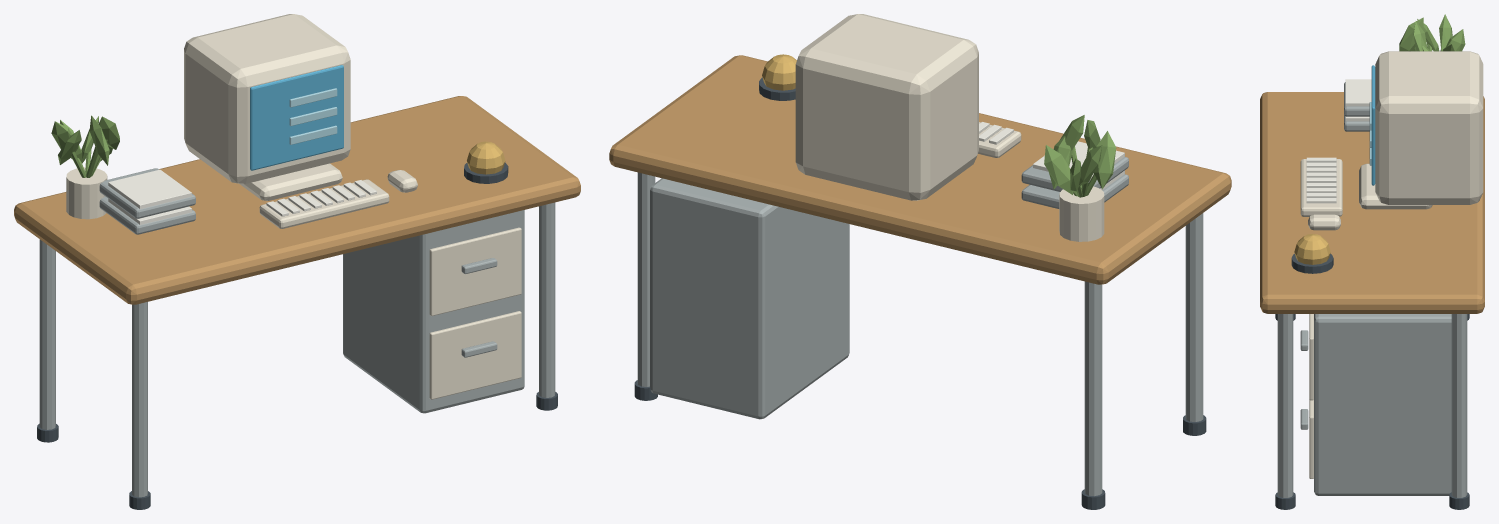
Rendered from reception_T1_desk.glb.
The picture shows the model from 3 angles, left to right: view 1: azimuth 30°, elevation 25°; view 2: azimuth 150°, elevation 25°; view 3: azimuth 270°, elevation 25°; orthographic projection. The views are drawn at different scales.
Visible parts, largest first — view 1: reception_T1_desk__Static_Assembly; view 2: reception_T1_desk__Static_Assembly; view 3: reception_T1_desk__Static_Assembly.
Boxes of the visible parts, x1,y1,x2,y2 form: reception_T1_desk__Static_Assembly: (14, 14, 580, 509); reception_T1_desk__Static_Assembly: (609, 14, 1231, 509); reception_T1_desk__Static_Assembly: (1260, 14, 1484, 509).
Size of the model in its own units: 1.65 by 1.24 by 0.75.
